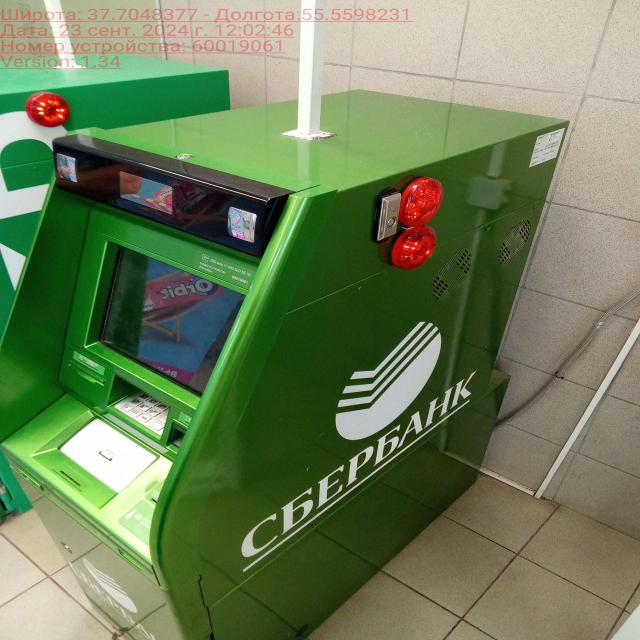bank: (0, 89, 571, 640), (0, 54, 233, 516)
